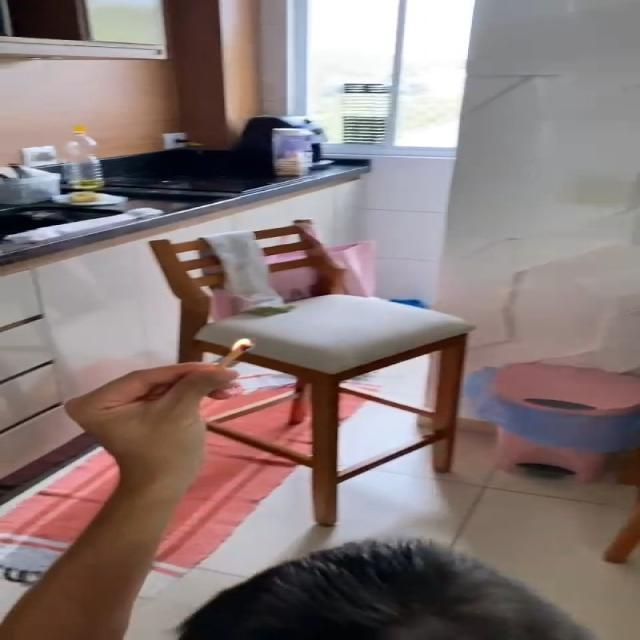fire: (231, 333, 258, 358)
